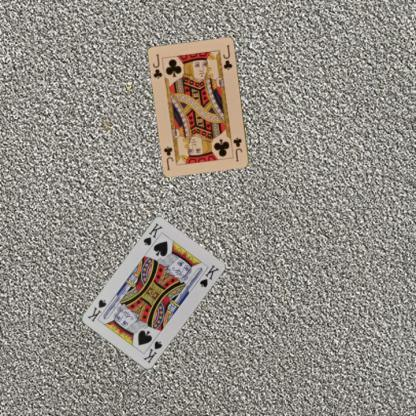Jc: (230, 134, 244, 164), (150, 51, 164, 80)
Ks: (140, 220, 164, 248), (140, 338, 164, 364)
